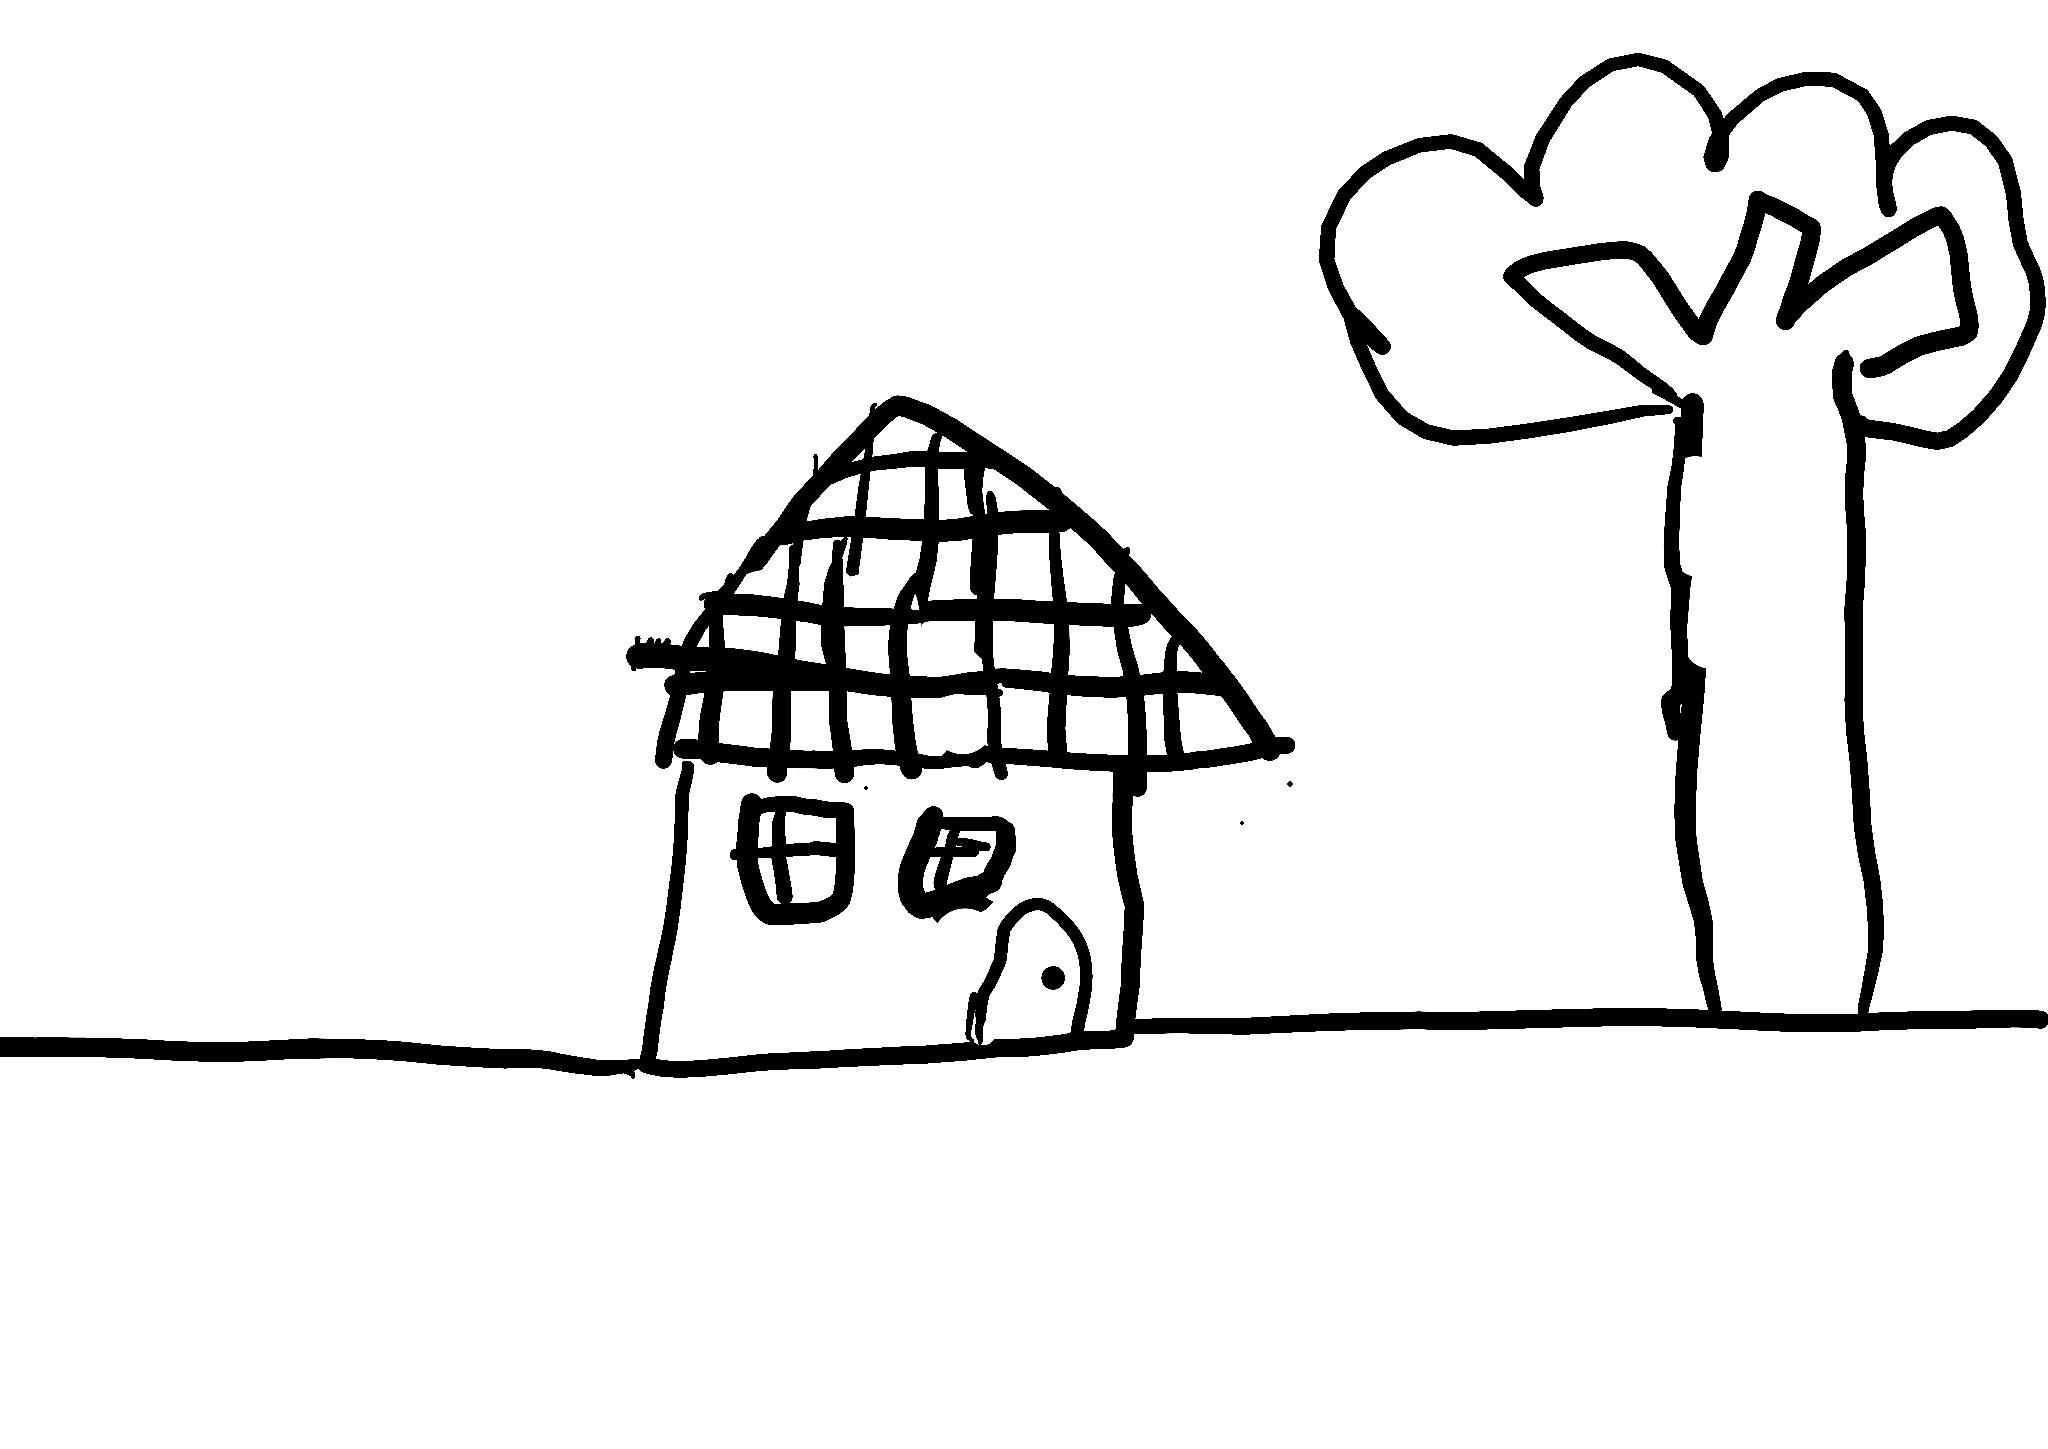door: (985, 914, 1082, 1041)
house: (640, 395, 1295, 1073)
roof: (660, 397, 1292, 779)
wall: (659, 767, 1123, 1059)
window: (731, 793, 855, 925), (899, 808, 1018, 922)
